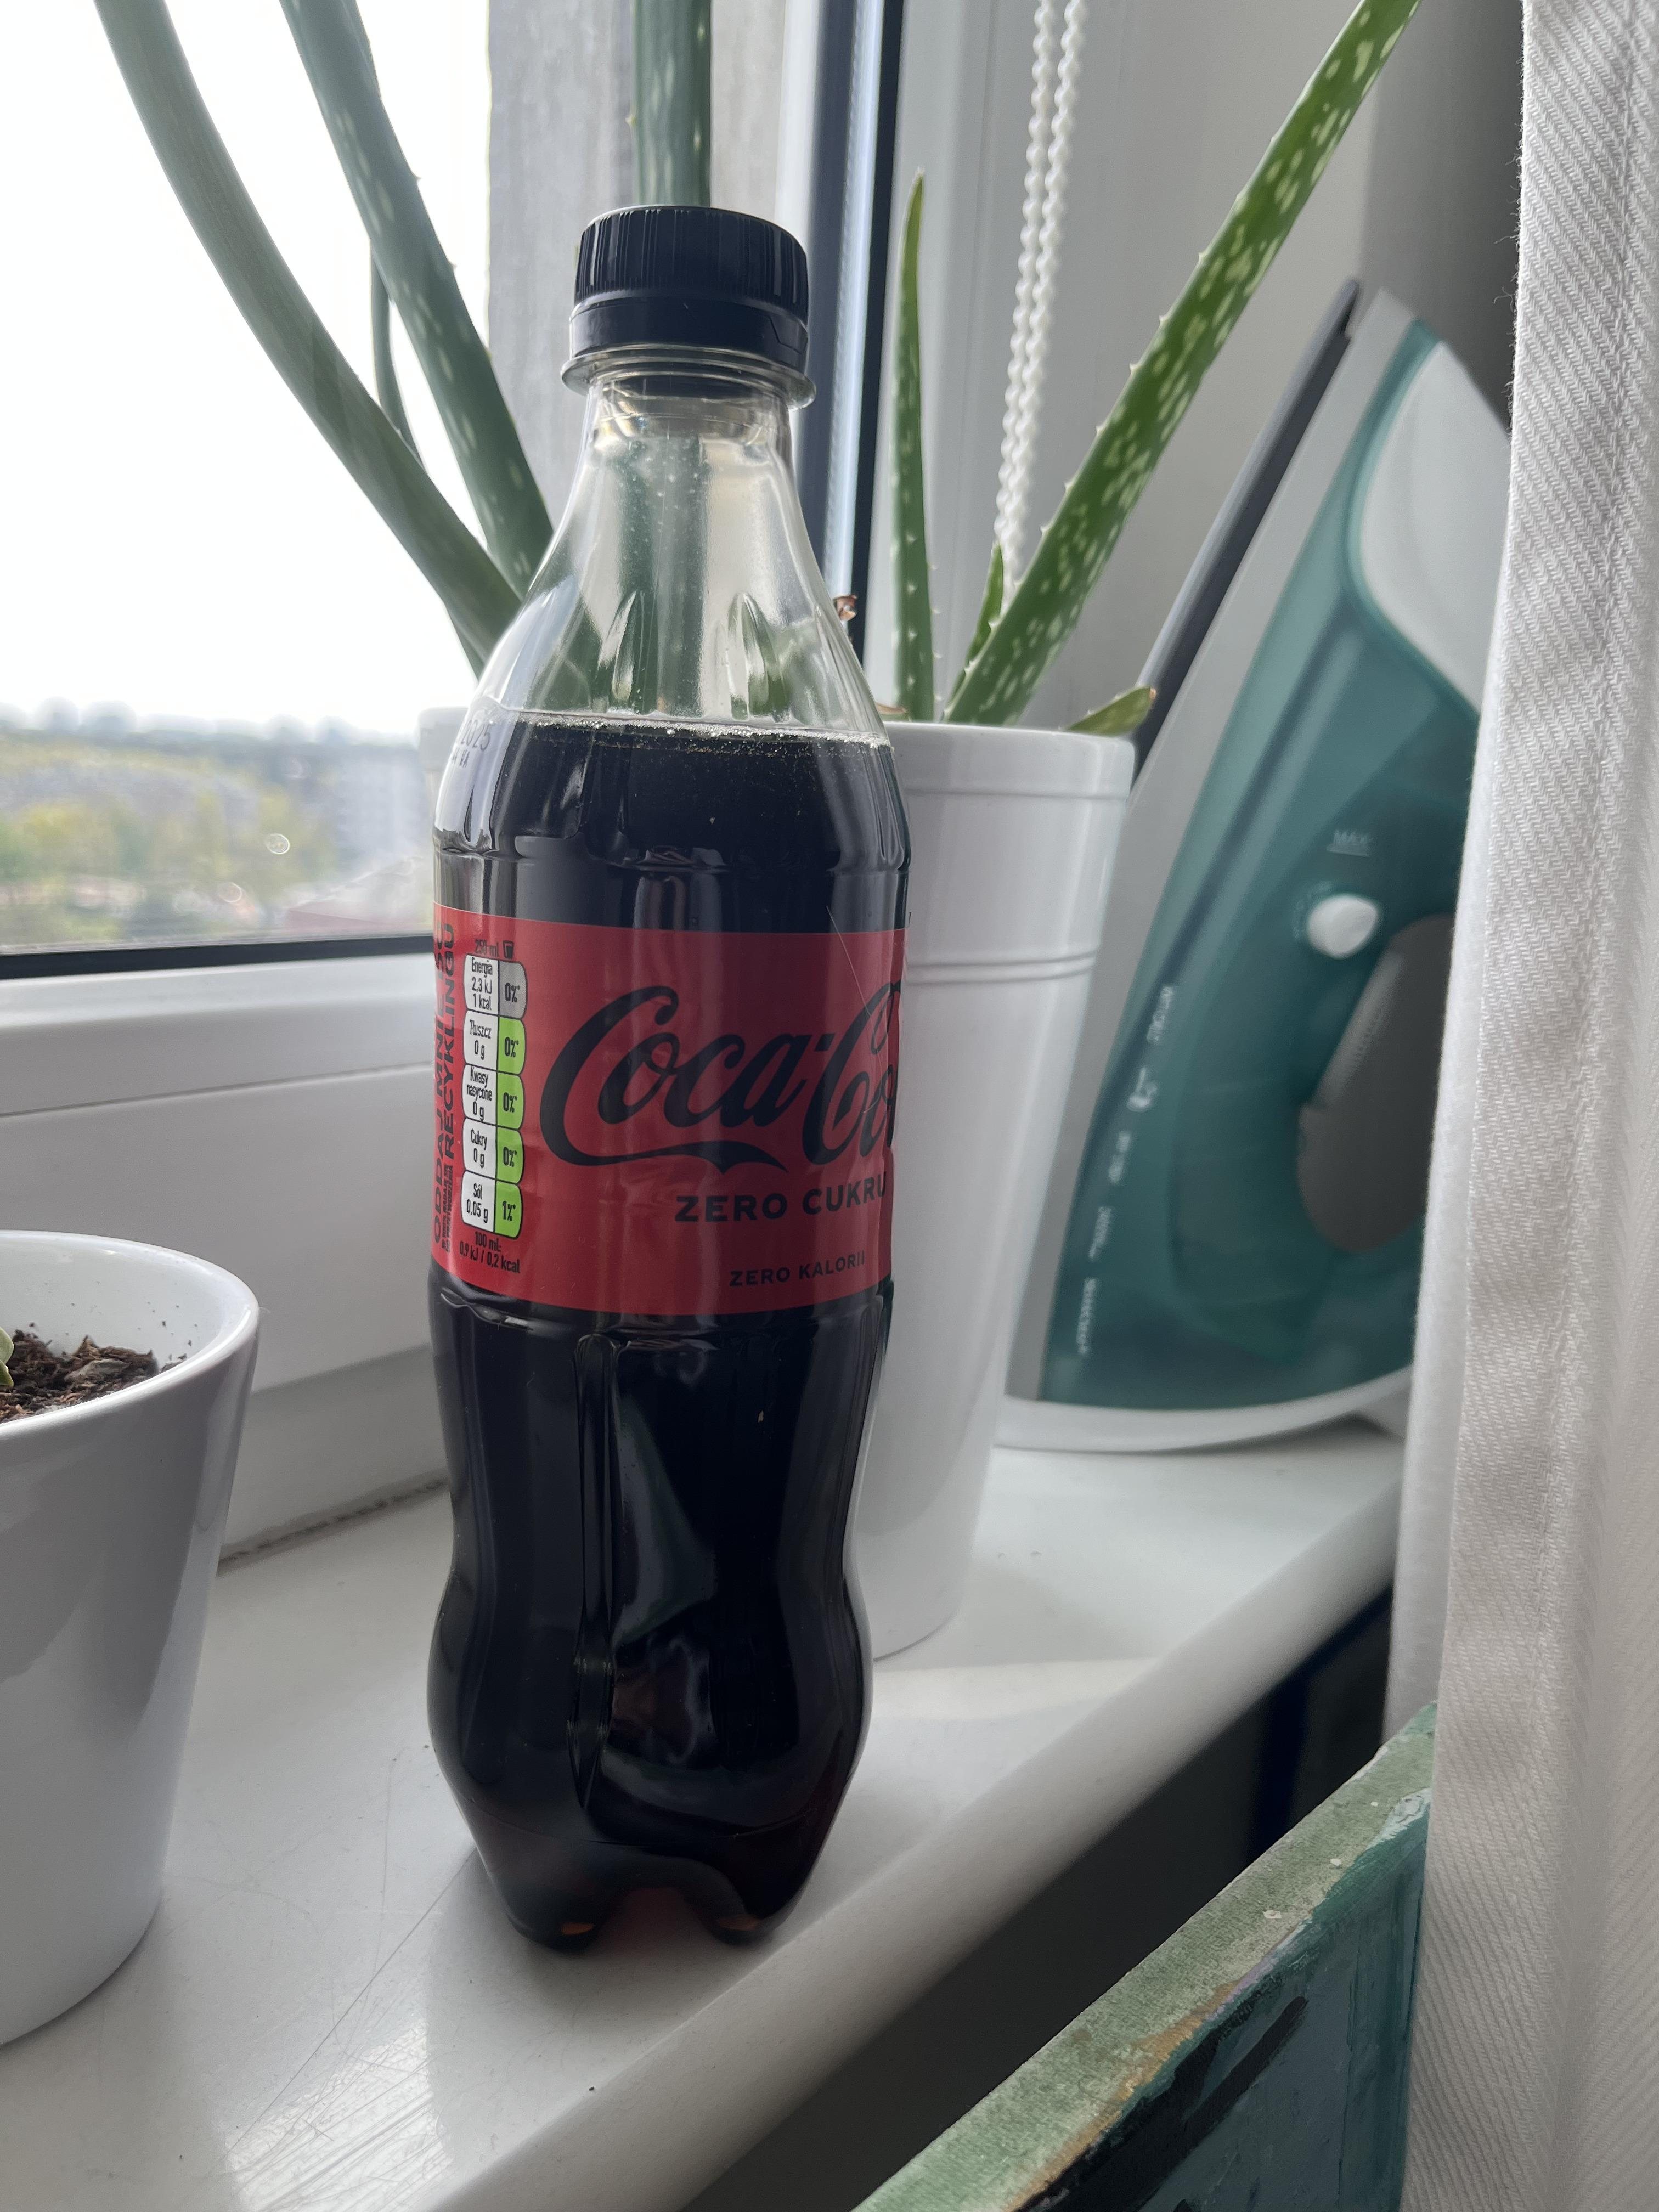Coca Cola: (434, 212, 910, 1963)
